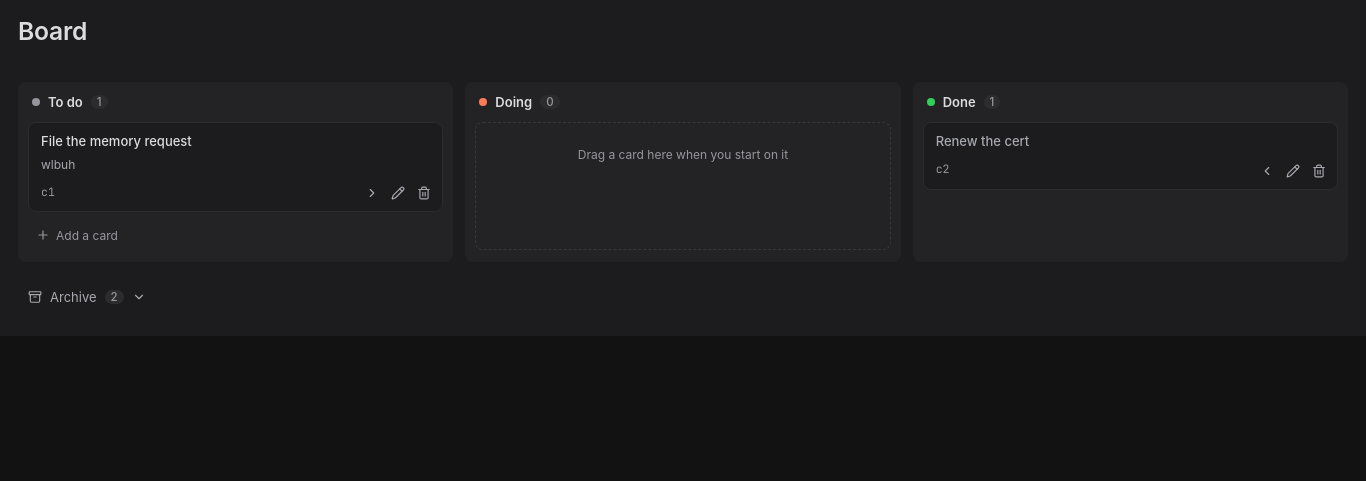
Test: the board page › a refused card keeps its editor open and says why
This screenshot has width=1366, height=481.
Click the button "Add a card".
click(87, 235)  # box [28,220,443,250]
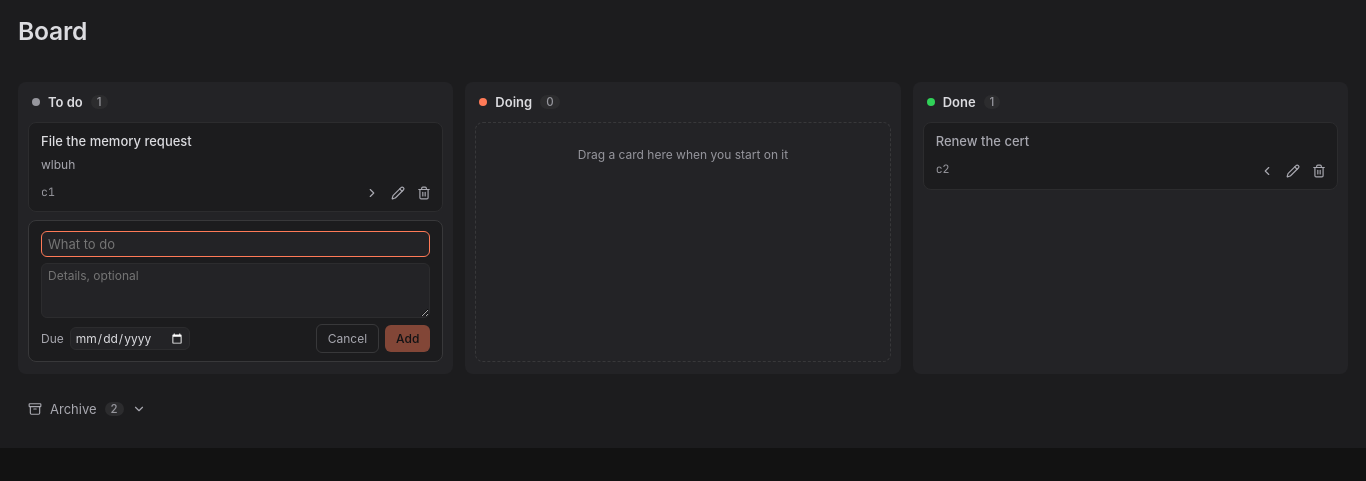
Type "One more" into the field named "Title".
click(236, 244); type("One more")  # box [41,231,430,257]
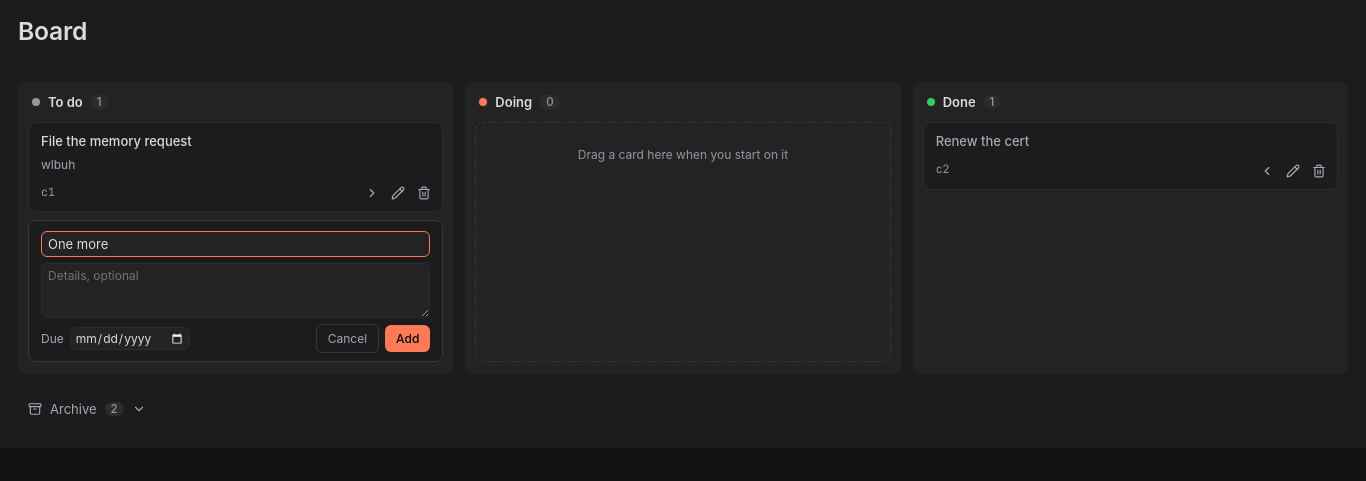
Click the button "Add".
click(408, 339)  # box [385,325,430,352]
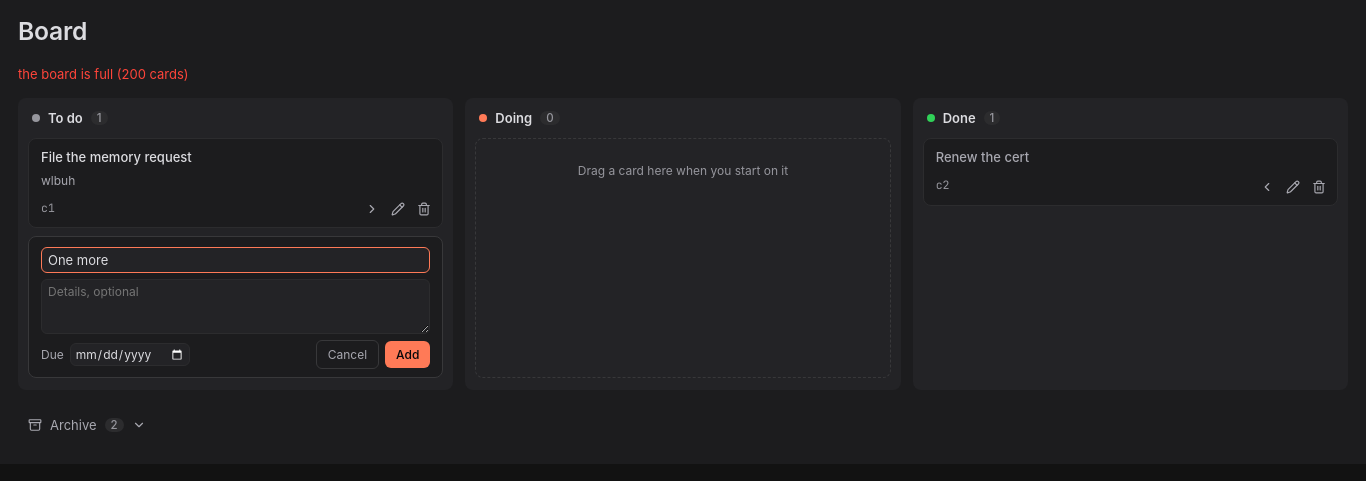
Now the text "the board is full (200 cards)" is shown, box [18,66,189,82]
